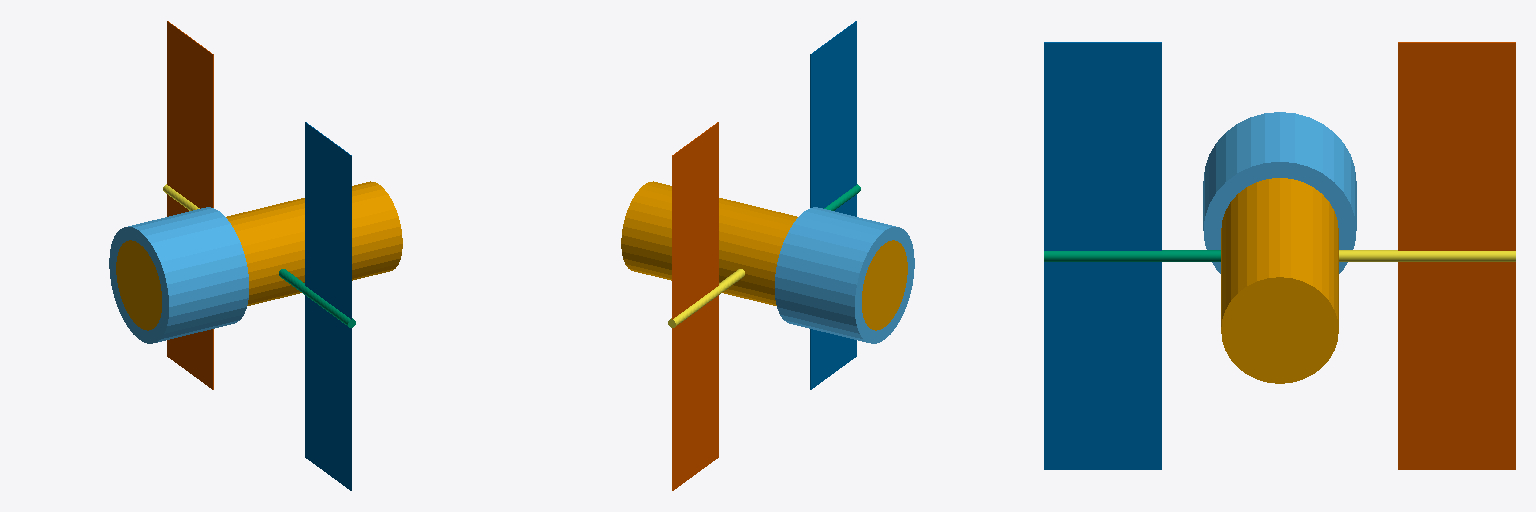
URDF robot description (hubble/hubble_without_lid):
<?xml version="1.0"?>
<robot name="hubble/hubble_without_lid">
 <link name="body1">
  <inertial>
    <mass value="1"/>
    <inertia ixx="0.8125" ixy="0" ixz="0" iyy="0.8125" iyz="0" izz="0.0625"/>
  </inertial>
  <visual>
    <origin rpy="0 1.57 0" xyz="0 0 0"/>
    <geometry>
      <cylinder length="3" radius="0.5"/>
    </geometry>
  </visual>
  <collision>
    <origin rpy="0 1.57 0" xyz="0 0 0"/>
    <geometry>
      <cylinder length="3" radius="0.5"/>
    </geometry>
  </collision>
 </link>

 <link name="body2">
  <inertial>
    <mass value="1"/>
    <inertia ixx="0.188958333333" ixy="0" ixz="0" iyy="0.188958333333" iyz="0" izz="0.105625"/>
  </inertial>
  <visual>
    <origin rpy="0 1.57 0" xyz="-1.0 0 0"/>
    <geometry>
      <cylinder length="1.0" radius="0.65"/>
    </geometry>
  </visual>
  <collision>
    <origin rpy="0 1.57 0" xyz="-1.0 0 0"/>
    <geometry>
      <cylinder length="1.0" radius="0.65"/>
    </geometry>
  </collision>
 </link>

 <link name="connector1">
  <inertial>
    <mass value="1"/>
    <inertia ixx="0.188125" ixy="0" ixz="0" iyy="0.188125" iyz="0" izz="0.000625"/>
  </inertial>
  <visual>
    <origin rpy="1.57079632679 0 0" xyz="0 -1.25 0"/>
    <geometry>
      <cylinder length="1.5" radius="0.05"/>
    </geometry>
  </visual>
  <collision>
    <origin rpy="1.57079632679 0 0" xyz="0 -1.25 0"/>
    <geometry>
      <cylinder length="1.5" radius="0.05"/>
    </geometry>
  </collision>
 </link>

 <link name="connector2">
  <inertial>
    <mass value="1"/>
    <inertia ixx="0.188125" ixy="0" ixz="0" iyy="0.188125" iyz="0" izz="0.000625"/>
  </inertial>
  <visual>
    <origin rpy="1.57079632679 0 0" xyz="0 1.25 0"/>
    <geometry>
      <cylinder length="1.5" radius="0.05"/>
    </geometry>
  </visual>
  <collision>
    <origin rpy="1.57079632679 0 0" xyz="0 1.25 0"/>
    <geometry>
      <cylinder length="1.5" radius="0.05"/>
    </geometry>
  </collision>
 </link>

 <link name="wing1">
  <inertial>
    <mass value="1"/>
    <inertia ixx="1.33334166667" ixy="0" ixz="0" iyy="0.0833416666667" iyz="0" izz="1.41666666667"/>
  </inertial>
  <visual>
    <origin rpy="0 0 0" xyz="0 -1.5 0"/>
    <geometry>
      <box size="0.01 1.0 4"/>
    </geometry>
  </visual>
  <collision>
    <origin rpy="0 0 0" xyz="0 -1.5 0"/>
    <geometry>
      <box size="0.01 1.0 4"/>
    </geometry>
  </collision>
 </link>

 <link name="wing2">
  <inertial>
    <mass value="1"/>
    <inertia ixx="1.33334166667" ixy="0" ixz="0" iyy="0.0833416666667" iyz="0" izz="1.41666666667"/>
  </inertial>
  <visual>
    <origin rpy="0 0 0" xyz="0 1.5 0"/>
    <geometry>
      <box size="0.01 1.0 4"/>
    </geometry>
  </visual>
  <collision>
    <origin rpy="0 0 0" xyz="0 1.5 0"/>
    <geometry>
      <box size="0.01 1.0 4"/>
    </geometry>
  </collision>
 </link>

<joint name="joint_body1_body2" type="fixed">
  <origin rpy="0 0 0" xyz="0 0 0"/>
  <parent link="body1"/>
  <child link="body2"/>
</joint>

<joint name="joint_body1_connector1" type="fixed">
  <origin rpy="0 0 0" xyz="0 0 0"/>
  <parent link="body1"/>
  <child link="connector1"/>
</joint>

<joint name="joint_body1_connector2" type="fixed">
  <origin rpy="0 0 0" xyz="0 0 0"/>
  <parent link="body1"/>
  <child link="connector2"/>
</joint>

<joint name="joint_connector1_wing1_Z" type="revolute">
  <origin rpy="0 0 0" xyz="0 0 0"/>
  <parent link="connector1"/>
  <child link="wing1"/>
  <axis xyz="0 1 0"/>
  <dynamics damping="0.01" friction="0.5"/>
  <limit lower="-1.57" upper="1.57" effort="0.01" velocity="100"/>
</joint>

<joint name="joint_connector2_wing2_Z" type="revolute">
  <origin rpy="0 0 0" xyz="0 0 0"/>
  <parent link="connector2"/>
  <child link="wing2"/>
  <axis xyz="0 1 0"/>
  <dynamics damping="0.01" friction="0.5"/>
  <limit lower="-1.57" upper="1.57" effort="0.01" velocity="100"/>
</joint>

  <klampt package_root="../../.." default_acc_max="4" >
  </klampt>
</robot>

--- Facts derived from the render (not from the file) ---
The picture shows the robot from 3 angles, left to right: view 1: azimuth 30°, elevation 25°; view 2: azimuth 150°, elevation 25°; view 3: azimuth 270°, elevation 25°; orthographic projection.
Model hubble/hubble_without_lid with 6 links and 5 joints (2 revolute, 3 fixed), rooted at body1, posed every joint at zero.
Visible links, largest first — view 1: wing1, body1, body2, wing2, connector1; view 2: wing2, body1, body2, wing1, connector2; view 3: wing1, wing2, body1, body2, connector1, connector2.
Boxes of the visible links, x1=… form: wing1: x1=305, y1=122, x2=351, y2=490; body1: x1=116, y1=181, x2=402, y2=330; body2: x1=109, y1=207, x2=248, y2=343; wing2: x1=167, y1=21, x2=213, y2=389; connector1: x1=279, y1=269, x2=355, y2=327; wing2: x1=672, y1=122, x2=718, y2=490; body1: x1=621, y1=181, x2=907, y2=330; body2: x1=775, y1=207, x2=914, y2=343; wing1: x1=810, y1=21, x2=856, y2=389; connector2: x1=668, y1=269, x2=744, y2=327; wing1: x1=1044, y1=42, x2=1161, y2=469; wing2: x1=1398, y1=42, x2=1515, y2=469; body1: x1=1221, y1=178, x2=1338, y2=383; body2: x1=1203, y1=112, x2=1356, y2=273; connector1: x1=1044, y1=250, x2=1220, y2=261; connector2: x1=1339, y1=250, x2=1515, y2=261.
Size in the robot's own frame: 3 by 4 by 4 metres.
Geometry: primitives only (box / cylinder / sphere), no mesh files.
